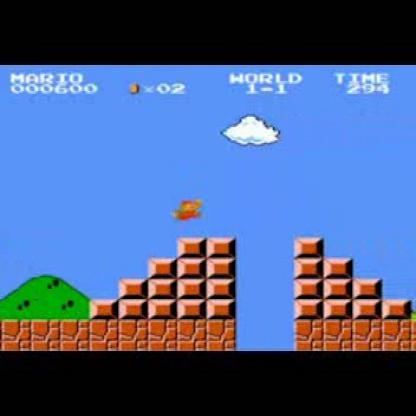Hoyo: (231, 321, 298, 351)
